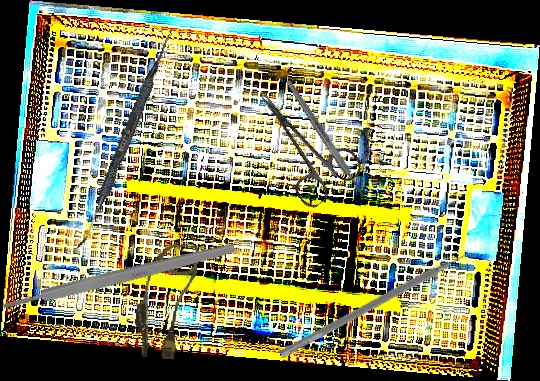Cannula: (131, 240, 200, 362)
Iris Scissors: (237, 73, 367, 212)
Scalpel Handle: (1, 240, 237, 313), (284, 77, 366, 198)
Spatula Surgical: (278, 243, 481, 367), (77, 30, 173, 253)
